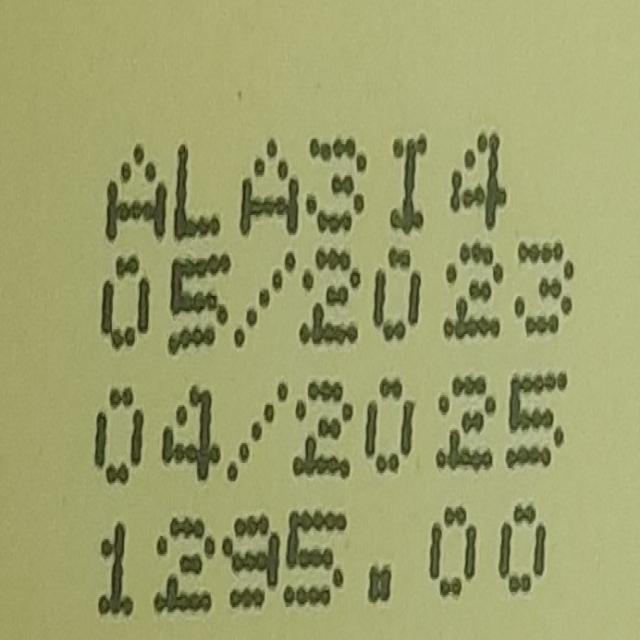sentence: (100, 235, 572, 355), (99, 501, 546, 624), (94, 371, 568, 485), (105, 127, 510, 254)
